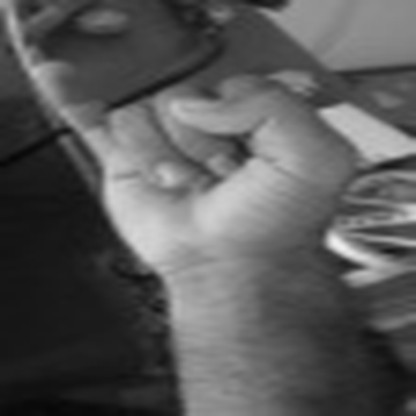i: (23, 48, 364, 269)
